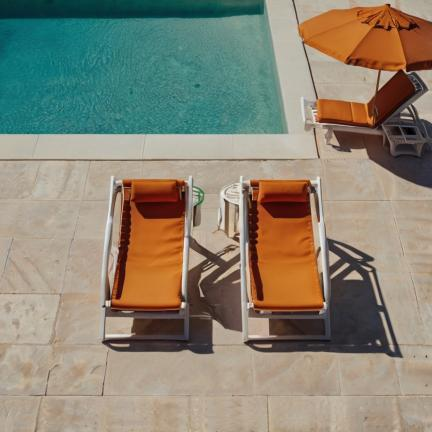empty chair: (100, 176, 193, 341), (240, 177, 331, 342)
